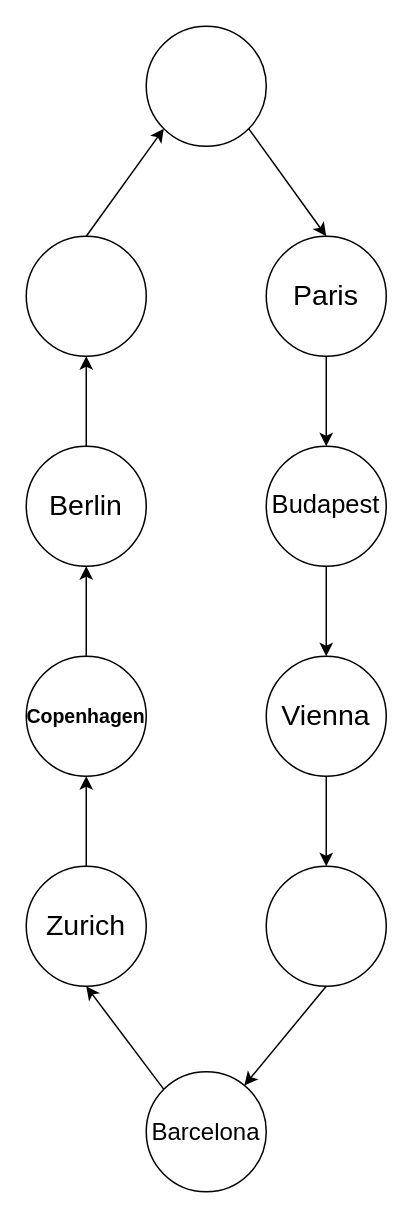
This 413x1218 diagram has some shape labels left out. Here are the shapes that lost their labels. From the top down, the centre of each, then its label:
the point at 205,85: London
the point at 85,295: Amsterdam
the point at 325,925: Rome
